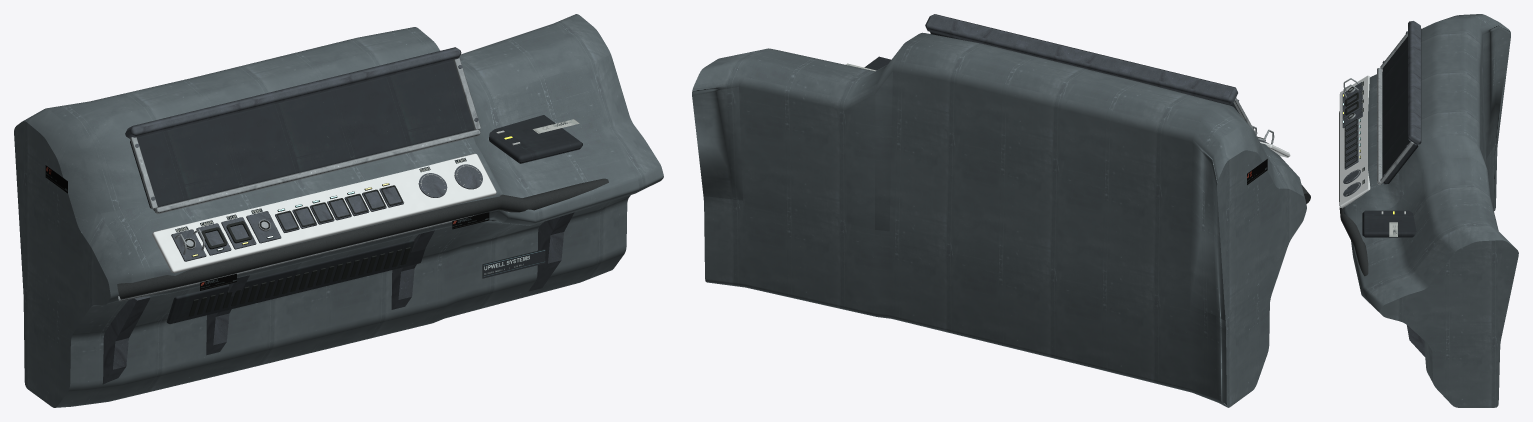
The model's file is prop_pilot_console.fbx.
3 renders of one model, left to right at view 1: azimuth 30°, elevation 25°; view 2: azimuth 150°, elevation 25°; view 3: azimuth 270°, elevation 25°, orthographic. The views are drawn at different scales.
Parts seen in each view (by area): view 1: SM_prop_pilot_console; view 2: SM_prop_pilot_console; view 3: SM_prop_pilot_console.
Part boxes in pixels (box(x1,y1,x2,y2)): SM_prop_pilot_console: box(14, 14, 663, 407); SM_prop_pilot_console: box(692, 14, 1310, 407); SM_prop_pilot_console: box(1339, 14, 1518, 407).
Size of the model in its own units: 2.5 by 1.24 by 0.9697.
24 materials, 12 textured.
